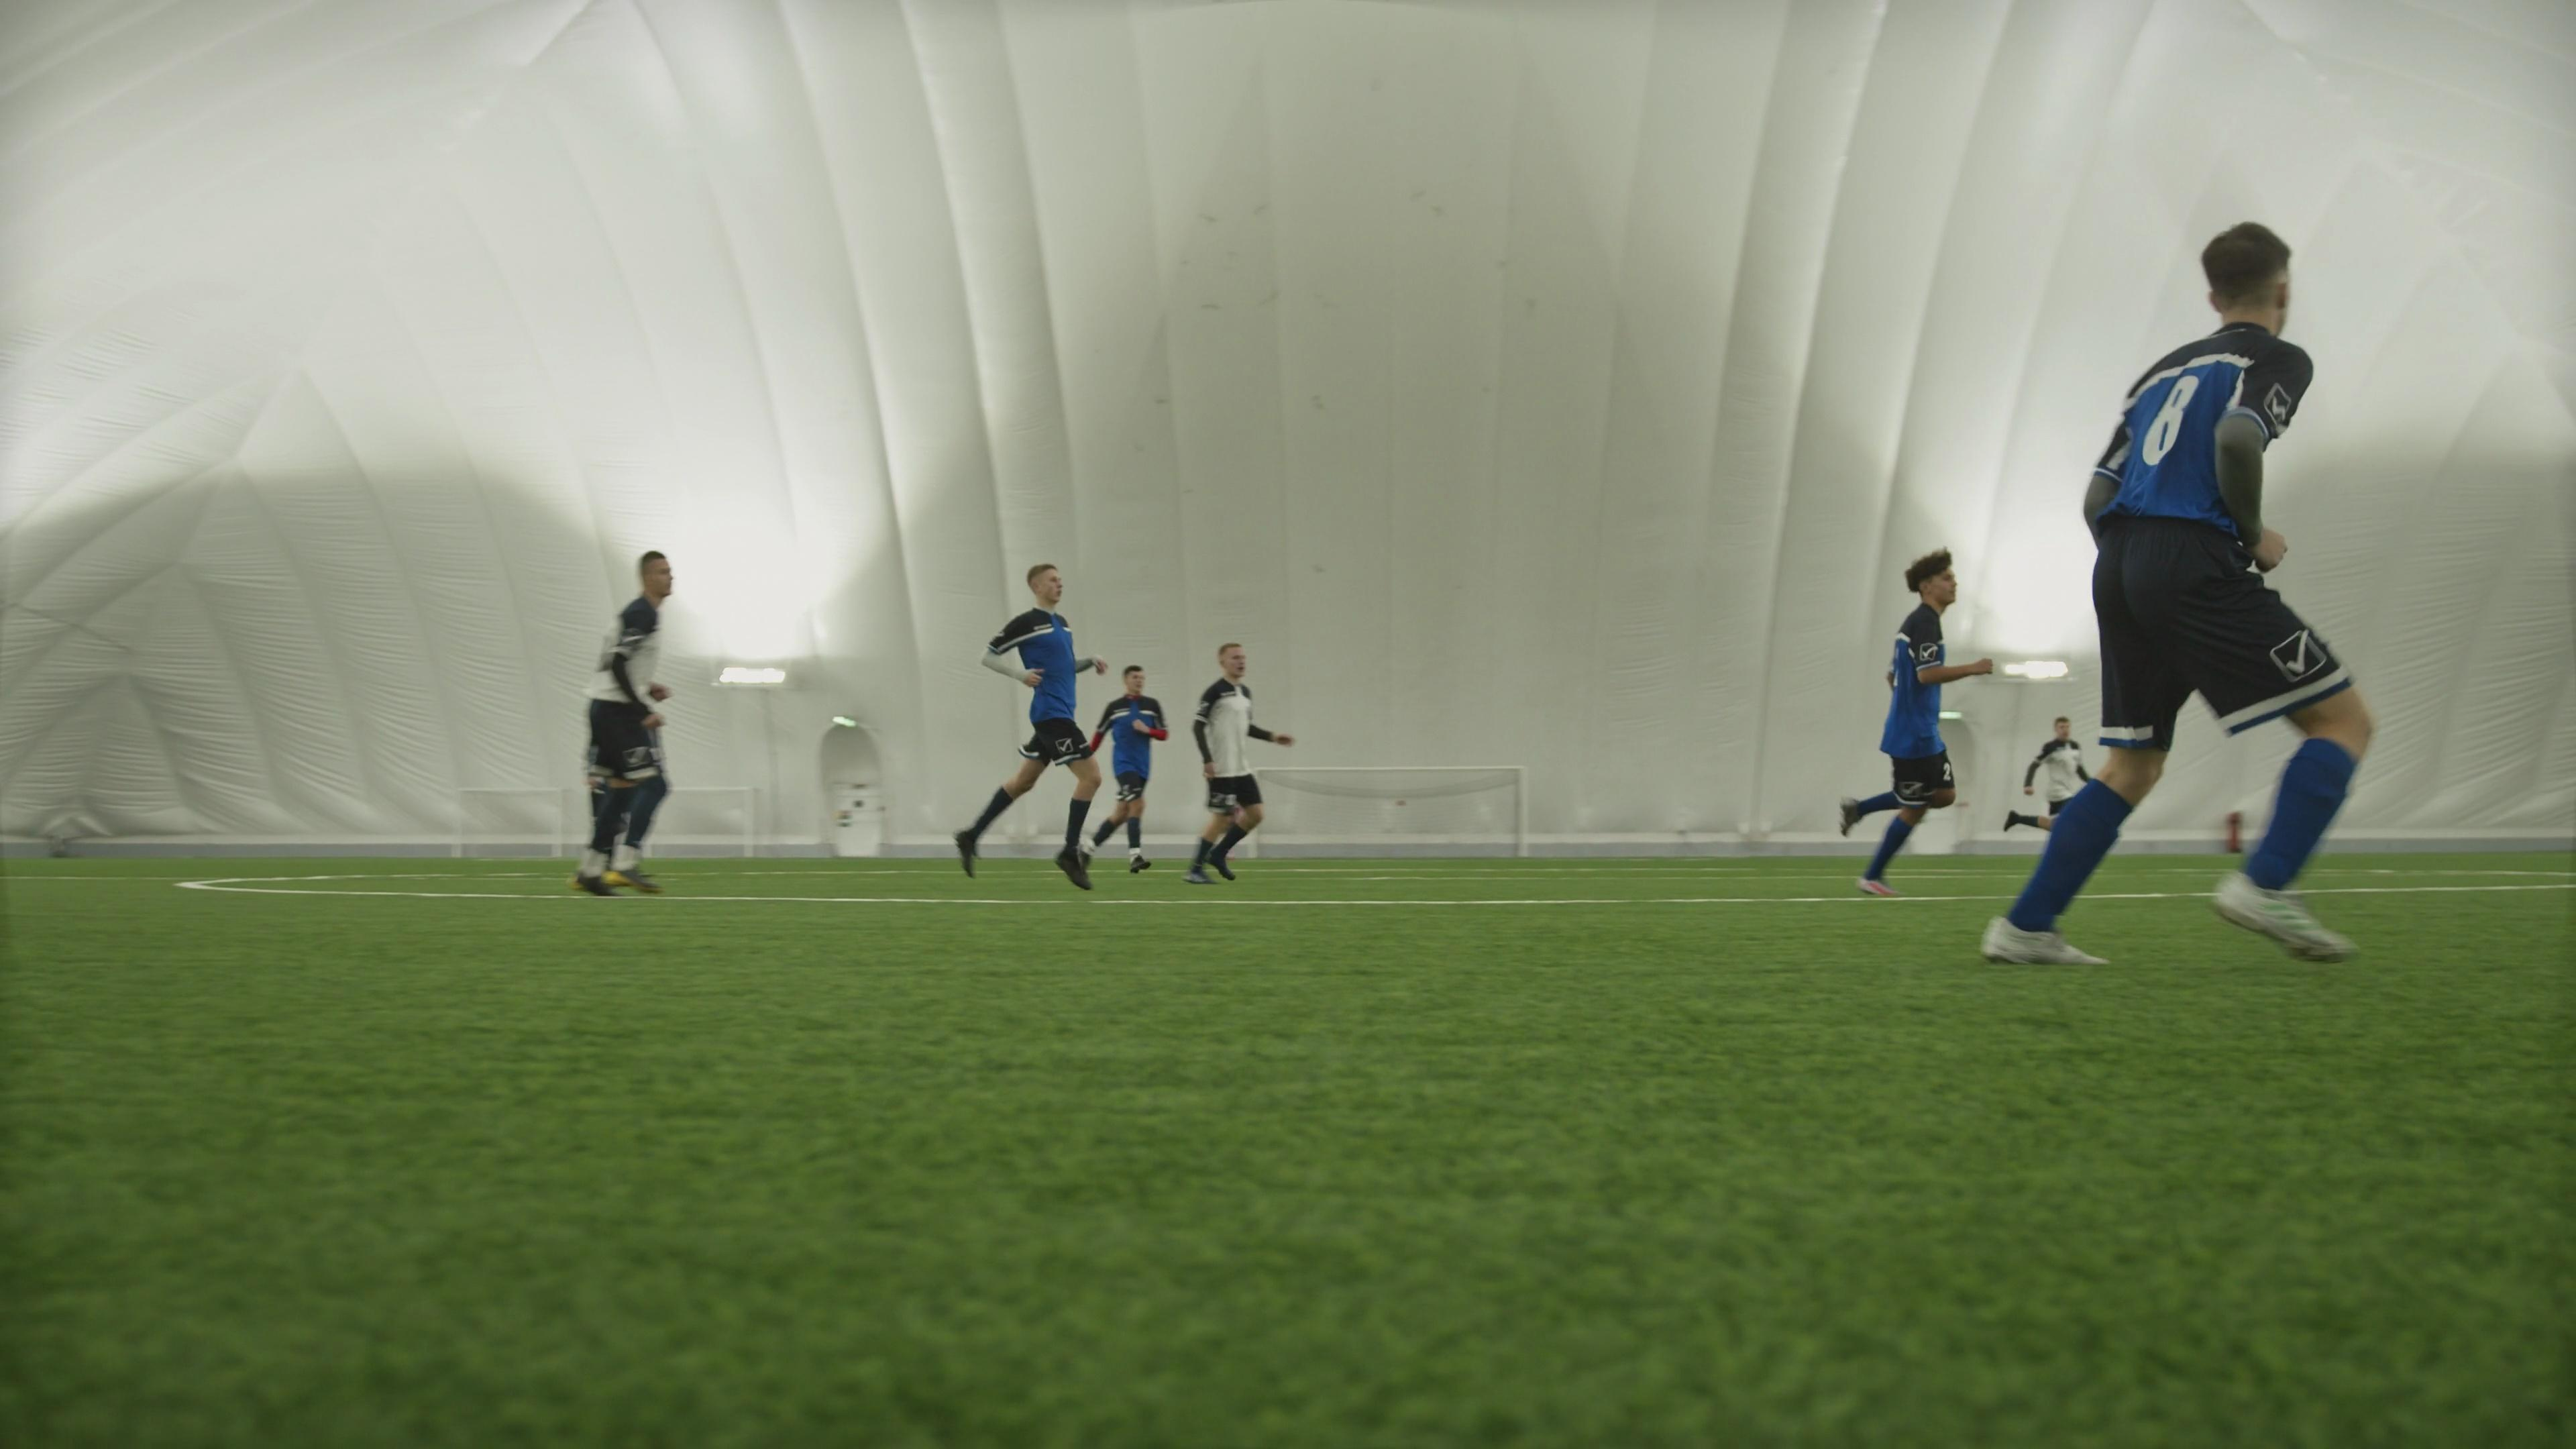team1: (1978, 221, 2376, 975), (1845, 552, 1983, 893), (950, 564, 1088, 885), (1083, 660, 1169, 879)
team2: (575, 548, 679, 893), (1189, 635, 1290, 883), (2015, 713, 2091, 830)
